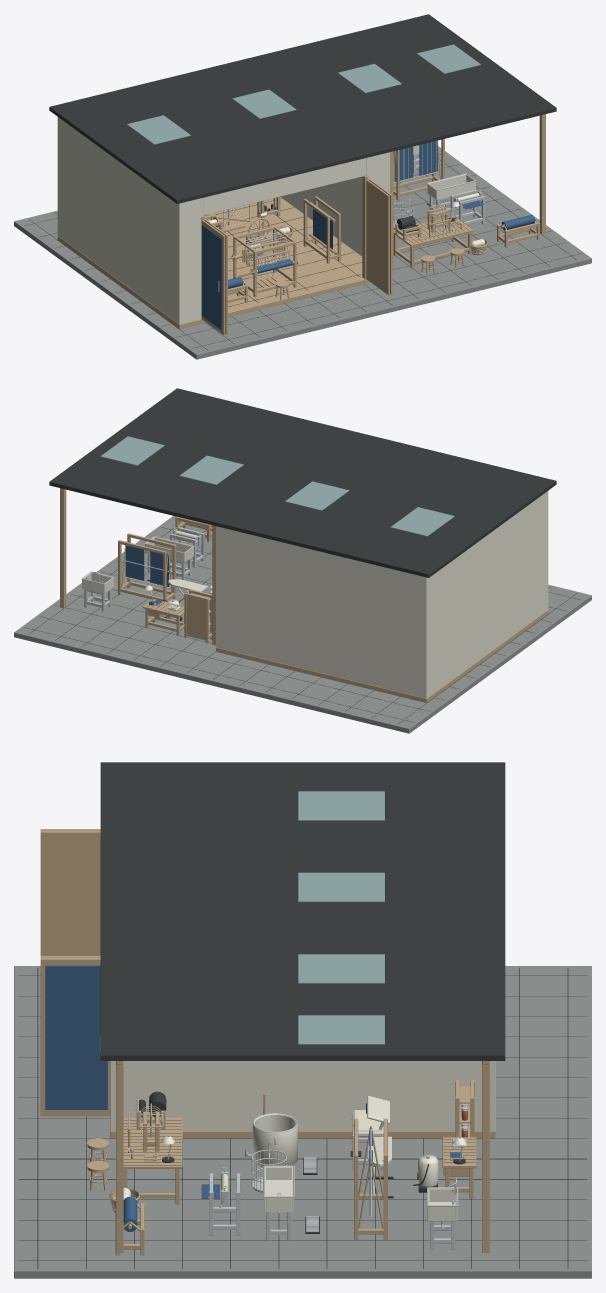
Rendered from textile-weaving-and-dye-workshop-ash-and-bf1e6ddd-starter-scene__29582.glb.
The picture shows the model from 3 angles, top to bottom: view 1: azimuth 30°, elevation 25°; view 2: azimuth 150°, elevation 25°; view 3: azimuth 270°, elevation 25°; orthographic projection. The views are drawn at different scales.
Parts seen in each view (by area): view 1: 001-roofed-textile-workshop/2, 001-roofed-textile-workshop/3, 000-courtyard-service-base/1, 001-roofed-textile-workshop/1, 001-roofed-textile-workshop/6, 002-four-shaft-floor-loom/1, 000-courtyard-service-base/0, 001-roofed-textile-workshop/4, 031-cutting-table/1, 051-drying-frame/3, 025-cloth-inspection-frame/1, 042-rinse-trough/1 (+5 smaller); view 2: 001-roofed-textile-workshop/2, 001-roofed-textile-workshop/3, 000-courtyard-service-base/1, 001-roofed-textile-workshop/6, 001-roofed-textile-workshop/1, 000-courtyard-service-base/0, 051-drying-frame/1, 046-pigment-jar-cabinet/1, 051-drying-frame/3, 047-order-desk/1, 042-rinse-trough/1, 043-wringer/0 (+3 smaller); view 3: 001-roofed-textile-workshop/2, 000-courtyard-service-base/1, 001-roofed-textile-workshop/3, 001-roofed-textile-workshop/1, 001-roofed-textile-workshop/6, 001-roofed-textile-workshop/4, 000-courtyard-service-base/0, 031-cutting-table/1, 039-dye-vat/1, 051-drying-frame/1, 047-order-desk/1, 042-rinse-trough/1 (+5 smaller).
Boxes of the visible parts, left/top/right/bottom form: 001-roofed-textile-workshop/2: left=49, top=14, right=556, bottom=306; 001-roofed-textile-workshop/3: left=57, top=117, right=389, bottom=324; 000-courtyard-service-base/1: left=14, top=146, right=591, bottom=359; 001-roofed-textile-workshop/1: left=57, top=114, right=545, bottom=335; 001-roofed-textile-workshop/6: left=127, top=44, right=480, bottom=144; 002-four-shaft-floor-loom/1: left=231, top=226, right=298, bottom=297; 000-courtyard-service-base/0: left=25, top=154, right=581, bottom=350; 001-roofed-textile-workshop/4: left=202, top=225, right=221, bottom=330; 031-cutting-table/1: left=393, top=215, right=473, bottom=268; 051-drying-frame/3: left=394, top=141, right=437, bottom=181; 025-cloth-inspection-frame/1: left=303, top=196, right=340, bottom=263; 042-rinse-trough/1: left=427, top=174, right=475, bottom=199; 001-roofed-textile-workshop/2: left=49, top=388, right=556, bottom=577; 001-roofed-textile-workshop/3: left=216, top=491, right=548, bottom=698; 000-courtyard-service-base/1: left=14, top=516, right=591, bottom=733; 001-roofed-textile-workshop/6: left=100, top=436, right=454, bottom=536; 001-roofed-textile-workshop/1: left=60, top=488, right=548, bottom=702; 000-courtyard-service-base/0: left=24, top=521, right=580, bottom=724; 051-drying-frame/1: left=118, top=533, right=175, bottom=601; 046-pigment-jar-cabinet/1: left=184, top=589, right=212, bottom=643; 051-drying-frame/3: left=125, top=545, right=168, bottom=586; 047-order-desk/1: left=142, top=599, right=184, bottom=635; 042-rinse-trough/1: left=145, top=537, right=193, bottom=562; 043-wringer/0: left=170, top=527, right=204, bottom=567; 001-roofed-textile-workshop/2: left=100, top=762, right=505, bottom=1060; 000-courtyard-service-base/1: left=14, top=966, right=591, bottom=1278; 001-roofed-textile-workshop/3: left=110, top=1061, right=495, bottom=1131; 001-roofed-textile-workshop/1: left=40, top=829, right=495, bottom=1252; 001-roofed-textile-workshop/6: left=298, top=791, right=384, bottom=1044; 001-roofed-textile-workshop/4: left=45, top=965, right=107, bottom=1109; 000-courtyard-service-base/0: left=18, top=967, right=587, bottom=1268; 031-cutting-table/1: left=123, top=1117, right=182, bottom=1204; 039-dye-vat/1: left=252, top=1113, right=297, bottom=1168; 051-drying-frame/1: left=354, top=1118, right=387, bottom=1239; 047-order-desk/1: left=442, top=1137, right=476, bottom=1198; 042-rinse-trough/1: left=264, top=1166, right=293, bottom=1212.
Size of the model in its own units: 15 by 5.01 by 12.
